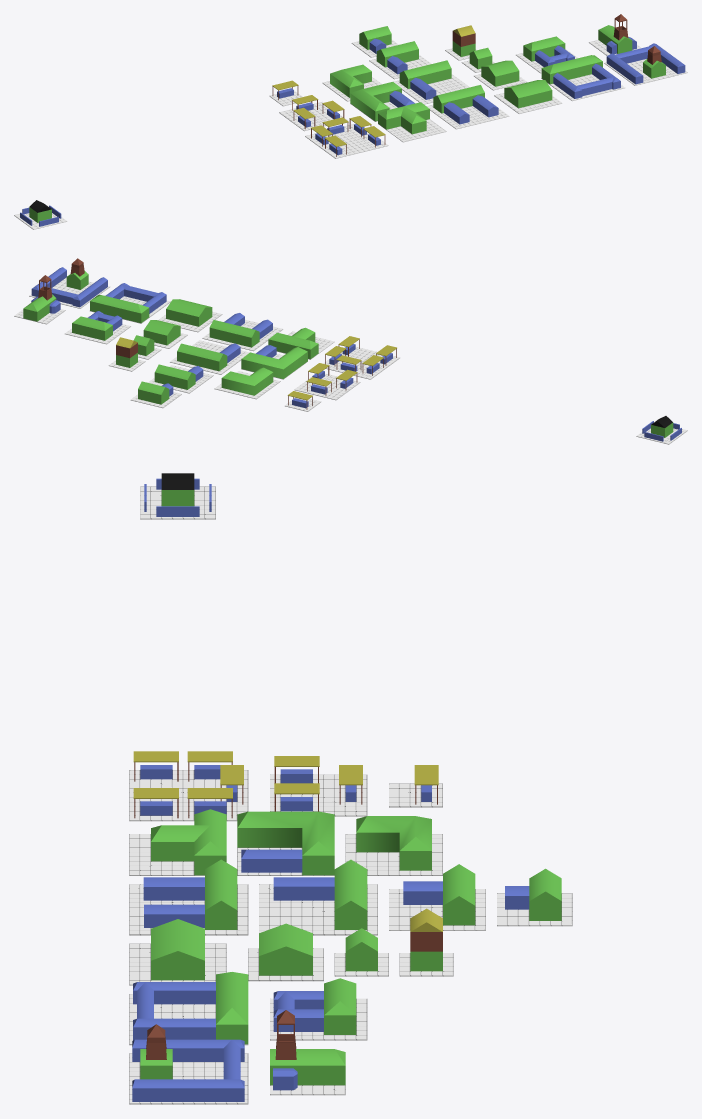
3 renders of one model, top to bottom at view 1: azimuth 30°, elevation 25°; view 2: azimuth 150°, elevation 25°; view 3: azimuth 270°, elevation 25°, orthographic. The views are drawn at different scales.
Visible parts, largest first — view 1: building_7m_3m_021, building_9m_3m_g_shape_007, building_7m_3m_014, ground_11_x_11_002, building_5m_5m_003, building_7m_3m_011, building_7m_3m_g_shape_007, building_9m_3m_004, building_5m_5m_002, building_9m_3m_006, ground_11_x_11_008, building_9m_3m_002 (+18 smaller); view 2: building_9m_3m_g_shape_007, building_7m_3m_021, building_7m_3m_011, building_7m_3m_g_shape_007, building_5m_5m_003, building_9m_3m_004, building_9m_3m_006, ground_11_x_11_002, building_7m_3m_014, building_7m_3m_001, building_9m_3m_002, building_7m_3m_003 (+15 smaller); view 3: building_7m_3m_021, building_9m_3m_g_shape_007, building_7m_3m_014, building_7m_3m_g_shape_007, ground_11_x_11_009, ground_11_x_11_002, building_5m_5m_003, building_5m_5m_002, building_7m_3m_011, building_9m_3m_004, ground_9_x_9_002, building_7m_3m_015 (+27 smaller).
Part boxes in pixels (x1,y1,x2,y2): building_7m_3m_021: (606, 43, 685, 84); building_9m_3m_g_shape_007: (350, 82, 401, 121); building_7m_3m_014: (553, 63, 620, 98); ground_11_x_11_002: (305, 123, 388, 158); building_5m_5m_003: (504, 80, 552, 108); building_7m_3m_011: (541, 55, 602, 84); building_7m_3m_g_shape_007: (330, 64, 371, 97); building_9m_3m_004: (399, 60, 451, 88); building_5m_5m_002: (481, 60, 519, 86); building_9m_3m_006: (433, 85, 484, 113); ground_11_x_11_008: (427, 105, 509, 129); building_9m_3m_002: (378, 102, 429, 129); building_9m_3m_g_shape_007: (241, 347, 307, 378); building_7m_3m_021: (31, 267, 107, 307); building_7m_3m_011: (90, 295, 149, 323); building_7m_3m_g_shape_007: (221, 367, 273, 395); building_5m_5m_003: (166, 299, 212, 326); building_9m_3m_004: (177, 343, 227, 371); building_9m_3m_006: (209, 320, 259, 347); ground_11_x_11_002: (323, 347, 399, 379); building_7m_3m_014: (105, 283, 166, 313); building_7m_3m_001: (154, 364, 195, 389); building_9m_3m_002: (268, 332, 318, 359); building_7m_3m_003: (72, 316, 112, 340); building_7m_3m_021: (132, 1039, 244, 1101); building_9m_3m_g_shape_007: (237, 811, 334, 875); building_7m_3m_014: (133, 982, 215, 1040); building_7m_3m_g_shape_007: (356, 816, 431, 870); ground_11_x_11_009: (259, 884, 377, 935); ground_11_x_11_002: (129, 770, 248, 821); building_5m_5m_003: (151, 919, 204, 980); building_5m_5m_002: (259, 923, 312, 975); building_7m_3m_011: (216, 972, 248, 1044); building_9m_3m_004: (334, 859, 367, 929); ground_9_x_9_002: (270, 774, 367, 816); building_7m_3m_015: (270, 1049, 345, 1085).
Size of the model in its own units: 13500 by 710 by 4100.
6 materials, 1 textured.
